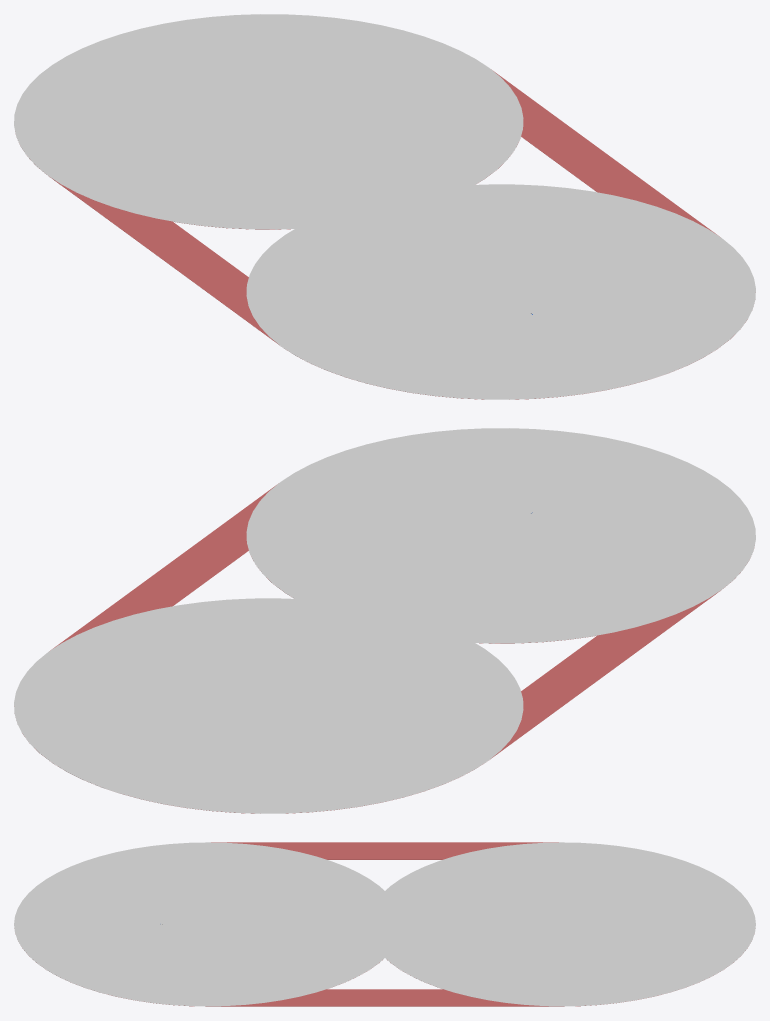
Rendered from 400m track setup.glb.
The picture shows the model from 3 angles, top to bottom: view 1: azimuth 30°, elevation 25°; view 2: azimuth 150°, elevation 25°; view 3: azimuth 270°, elevation 25°; orthographic projection. The views are drawn at different scales.
Visible parts, largest first — view 1: Cylinder, Cylinder.007, Cylinder.005, Cylinder.002, Cylinder.003, Cylinder.004, Cylinder.001, Cylinder.009, Cylinder.008, Cylinder.016, Cylinder.010, Cylinder.013 (+8 smaller); view 2: Cylinder.002, Cylinder.001, Cylinder.004, Cylinder.009, Cylinder.005, Cylinder.016, Cylinder.015, Cylinder.013, Cylinder, Cylinder.011, Cylinder.003, Cylinder.017 (+8 smaller); view 3: Cylinder.009, Cylinder.008, Cylinder, Cylinder.001, Cylinder.004, Cylinder.005, Cylinder.003, Cylinder.002, Cylinder.016, Cylinder.017, Cylinder.010, Cylinder.011 (+8 smaller).
Boxes of the visible parts, x1,y1,x2,y2 form: Cylinder: (68, 37, 469, 203); Cylinder.007: (280, 206, 722, 385); Cylinder.005: (287, 201, 715, 382); Cylinder.002: (61, 34, 476, 209); Cylinder.003: (293, 210, 706, 379); Cylinder.004: (54, 31, 483, 210); Cylinder.001: (300, 207, 700, 376); Cylinder.009: (273, 195, 728, 388); Cylinder.008: (41, 25, 496, 211); Cylinder.016: (14, 14, 523, 229); Cylinder.010: (34, 22, 503, 220); Cylinder.013: (260, 190, 740, 393); Cylinder.002: (65, 620, 476, 793); Cylinder.001: (303, 451, 702, 618); Cylinder.004: (54, 615, 482, 796); Cylinder.009: (273, 439, 728, 628); Cylinder.005: (287, 445, 715, 624); Cylinder.016: (14, 598, 523, 813); Cylinder.015: (253, 431, 749, 640); Cylinder.013: (260, 434, 742, 637); Cylinder: (69, 621, 469, 790); Cylinder.011: (266, 436, 735, 634); Cylinder.003: (293, 448, 708, 623); Cylinder.017: (246, 428, 755, 643); Cylinder.009: (35, 851, 379, 997); Cylinder.008: (389, 851, 733, 997); Cylinder: (411, 859, 712, 988); Cylinder.001: (57, 859, 358, 988); Cylinder.004: (400, 855, 723, 993); Cylinder.005: (47, 855, 368, 993); Cylinder.003: (56, 857, 359, 990); Cylinder.002: (410, 857, 713, 990); Cylinder.016: (370, 842, 755, 1006); Cylinder.017: (14, 842, 398, 1006); Cylinder.010: (390, 849, 739, 999); Cylinder.011: (34, 849, 380, 999).
Size of the model in its own units: 92.52 by 0.1895 by 177.
